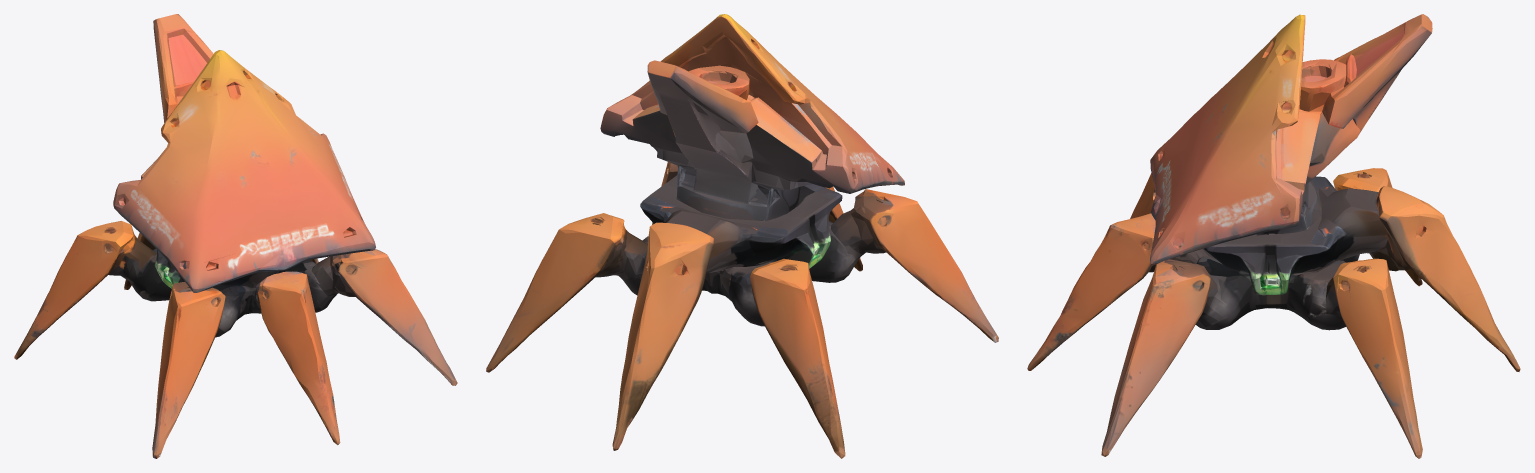
File: base_basic_pbr.fbx
The picture shows the model from 3 angles, left to right: view 1: azimuth 30°, elevation 25°; view 2: azimuth 150°, elevation 25°; view 3: azimuth 270°, elevation 25°; orthographic projection. The views are drawn at different scales.
Visible parts, largest first — view 1: root.0, root.1, root.2, root.3, root.4; view 2: root.0, root.1, root.4, root.5, root.2; view 3: root.0, root.1, root.3, root.5, root.4, root.2.
Part boxes in pixels (x1,y1,x2,y2): root.0: (105,14,375,337); root.1: (124,233,340,444); root.2: (152,282,225,458); root.3: (333,249,457,385); root.4: (14,221,133,359); root.0: (591,14,904,326); root.1: (612,175,862,450); root.4: (750,258,845,458); root.5: (486,213,626,372); root.2: (854,189,998,342); root.0: (1150,14,1432,330); root.1: (1027,176,1520,371); root.3: (1101,259,1210,456); root.5: (1333,258,1422,458); root.4: (1333,168,1422,286); root.2: (1130,173,1155,218).
Bounding box in the file's own units: 152 × 145 × 181.
6 materials, 6 textured.
